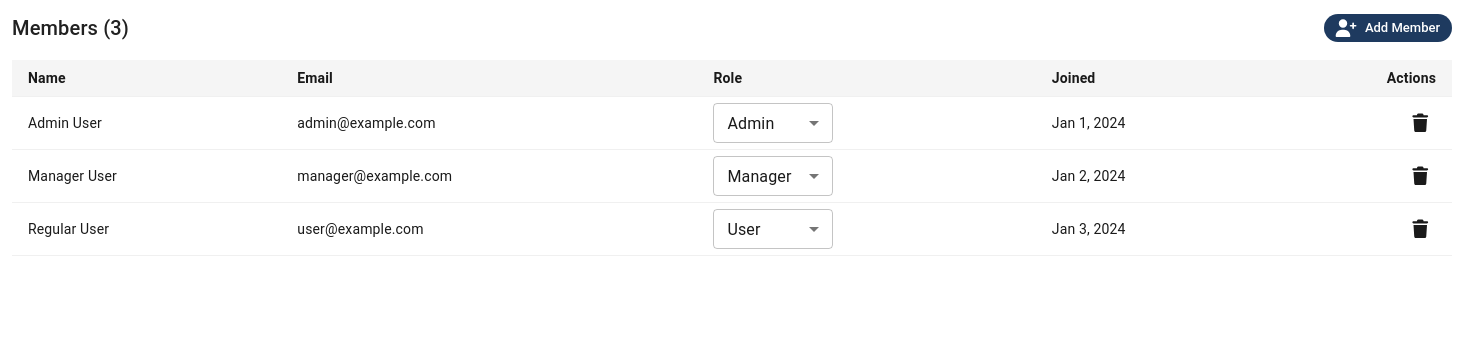
Scenario: OrgMembersTable › Role Management › shows error when role change fails
The image size is (1464, 337).
Click the dropdown labelled "Admin" at (751, 123), box [727,114,774,132]
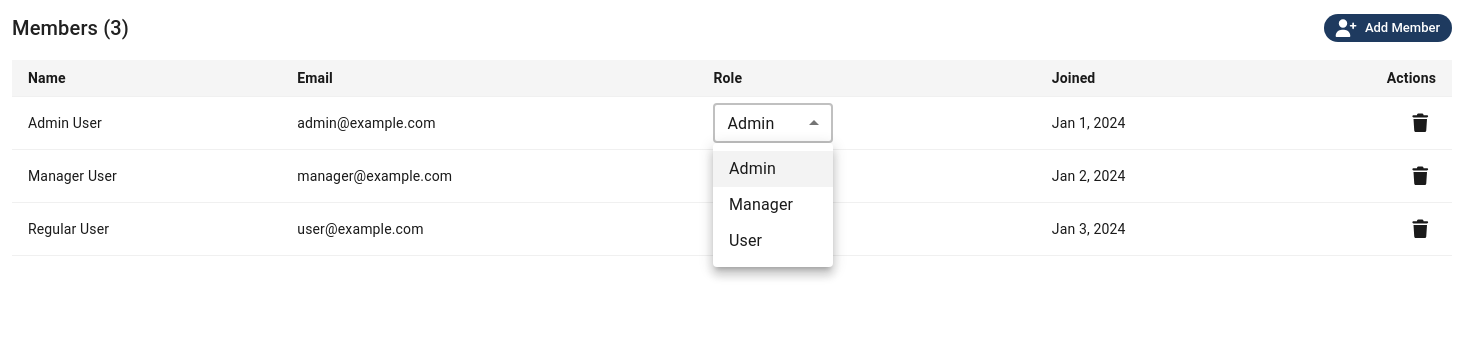
Click the option "Manager" at (761, 204), box [729,195,793,214]
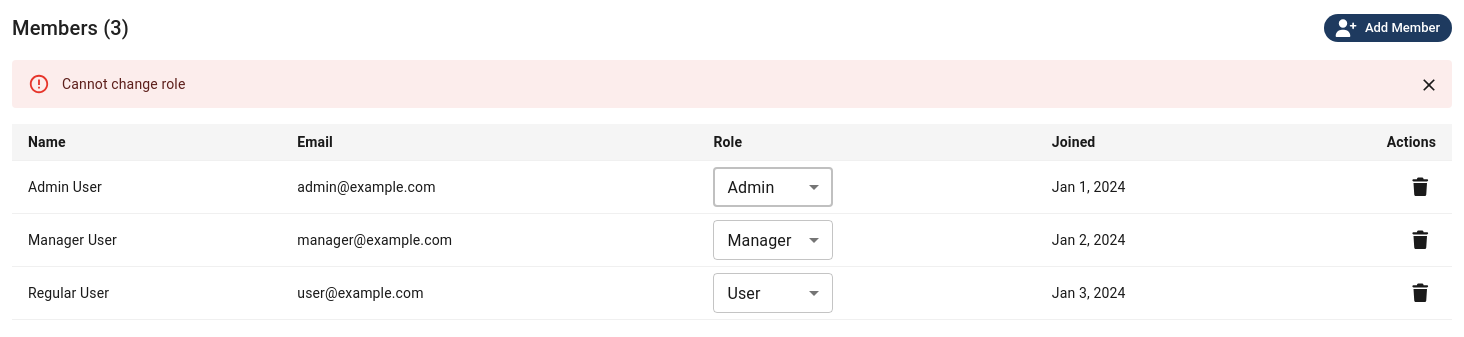
Result: the text "Cannot change role" is shown at [62,76,186,92]
